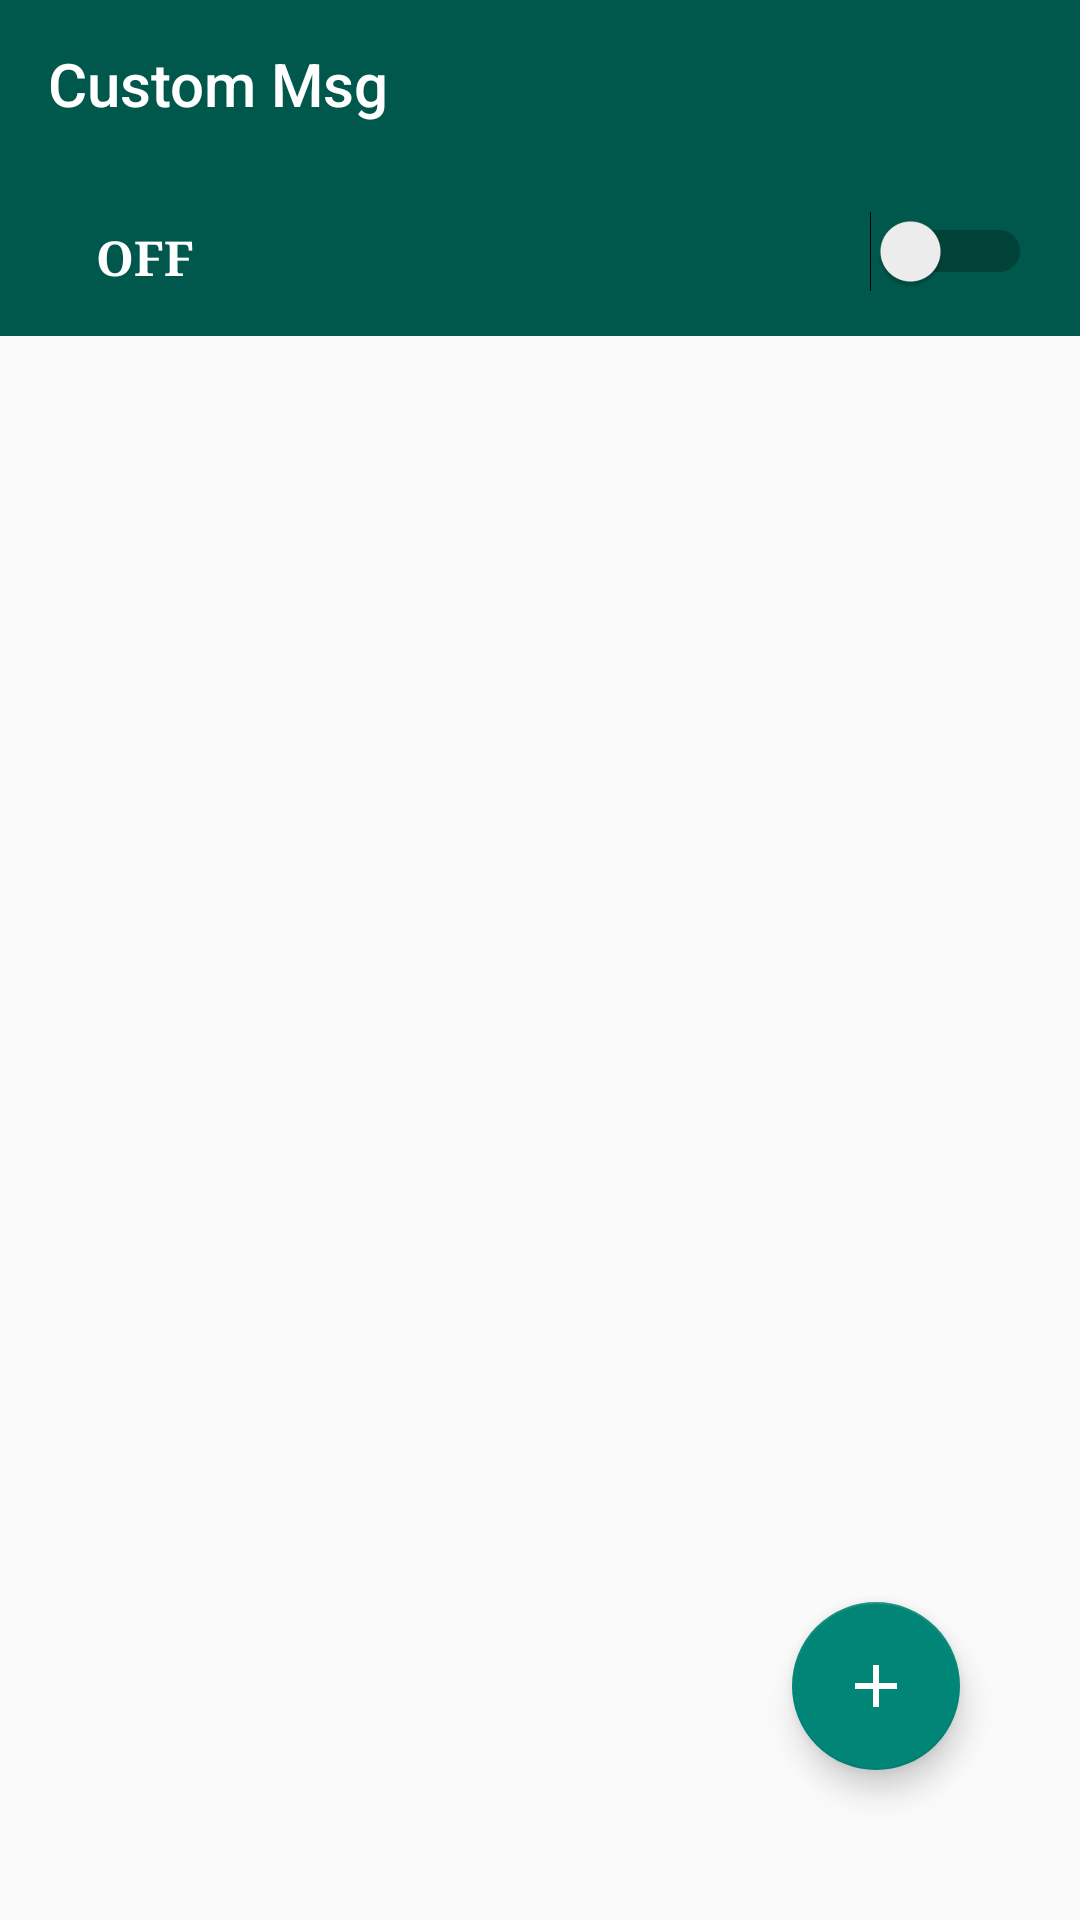

Icon bounding boxes for this 1080px×1920px phone screenshot, format (x1, y1, x2, y2):
add: (792, 1602, 960, 1770)
